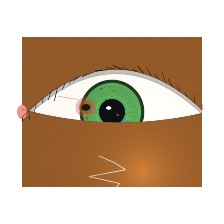foreign_body_visible: (64, 90, 108, 125)
